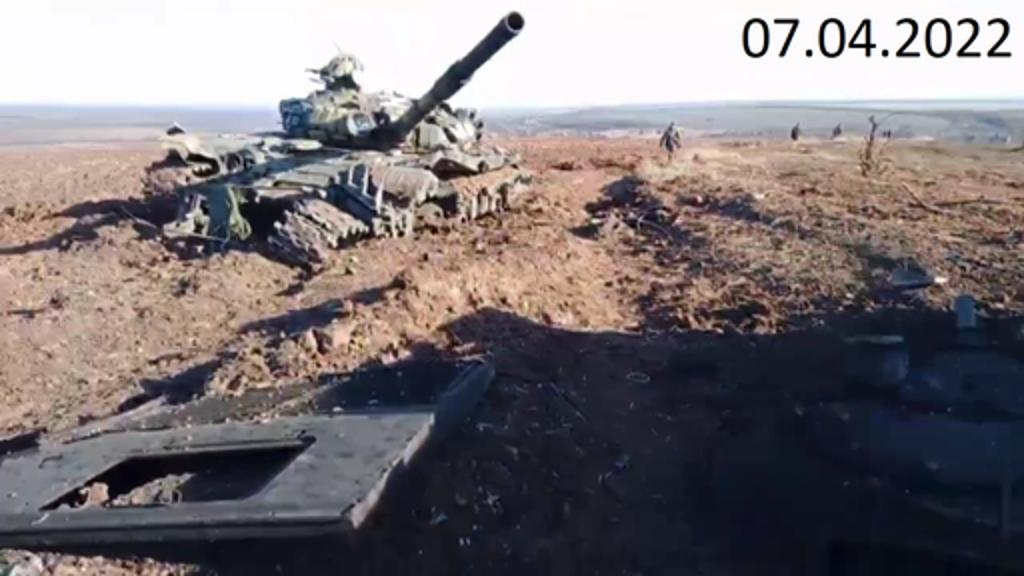TANK: (134, 8, 526, 256)
